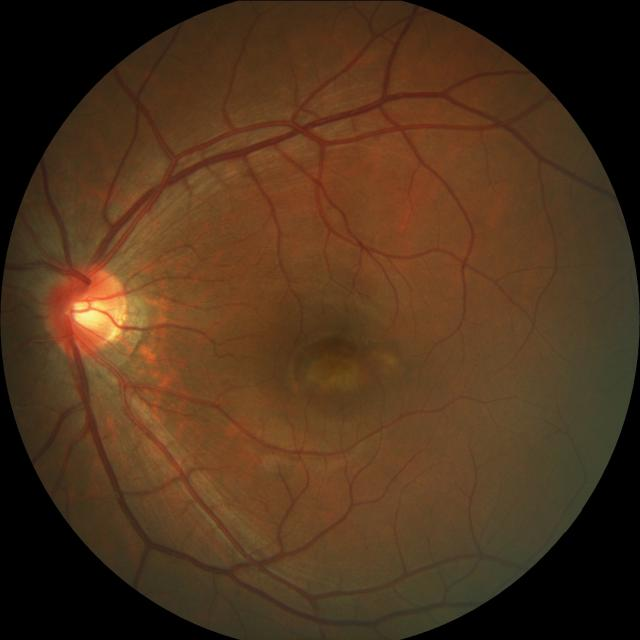OC: (68, 290, 109, 333)
OD: (44, 265, 126, 354)
